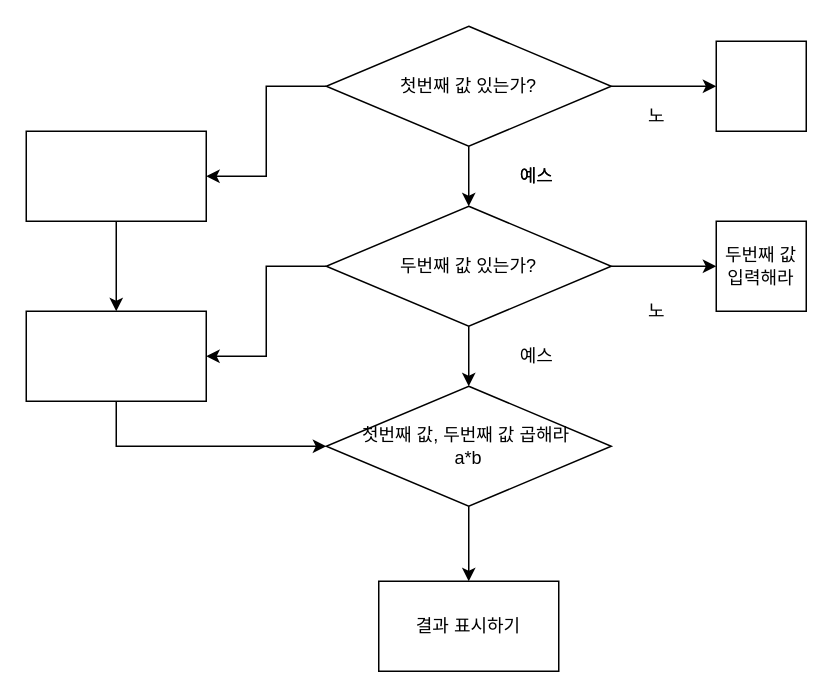
Some shapes in this 833 by 698 pixel diagram are drawn without their labels. The shapes that lost their labels are listed below. From the top down, each one's box as (x1, y1, x2, y2) in pixels, then its label:
(715, 40, 806, 131): 첫번째 값 입력해라
(25, 130, 206, 221): 첫번째 값 저장하기 a
(25, 310, 206, 401): 두번째 값 저장하기 b
